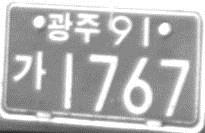1: (62, 50, 75, 109), (142, 12, 152, 50)
6: (121, 53, 152, 117)
7: (156, 57, 193, 119), (84, 50, 120, 113)
9: (108, 13, 134, 47)
가: (10, 46, 46, 92)
광주_O: (46, 10, 100, 43)
